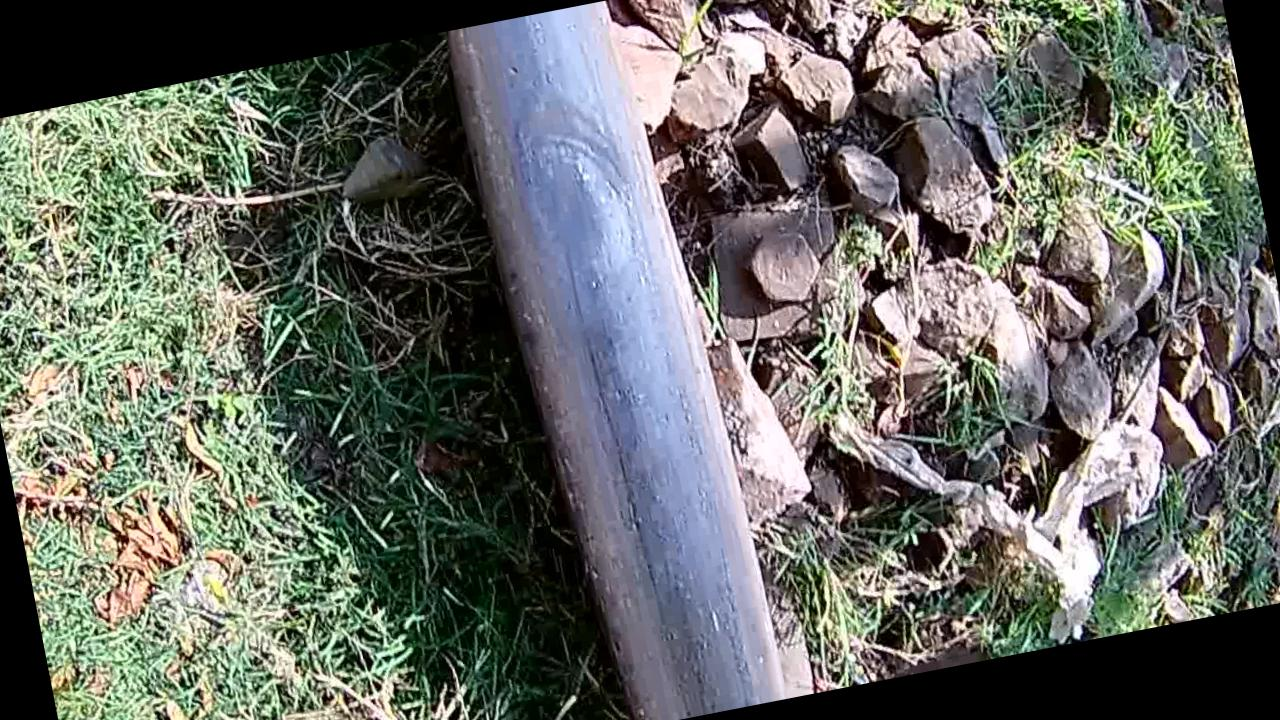bolt_missing: (457, 9, 764, 720)
